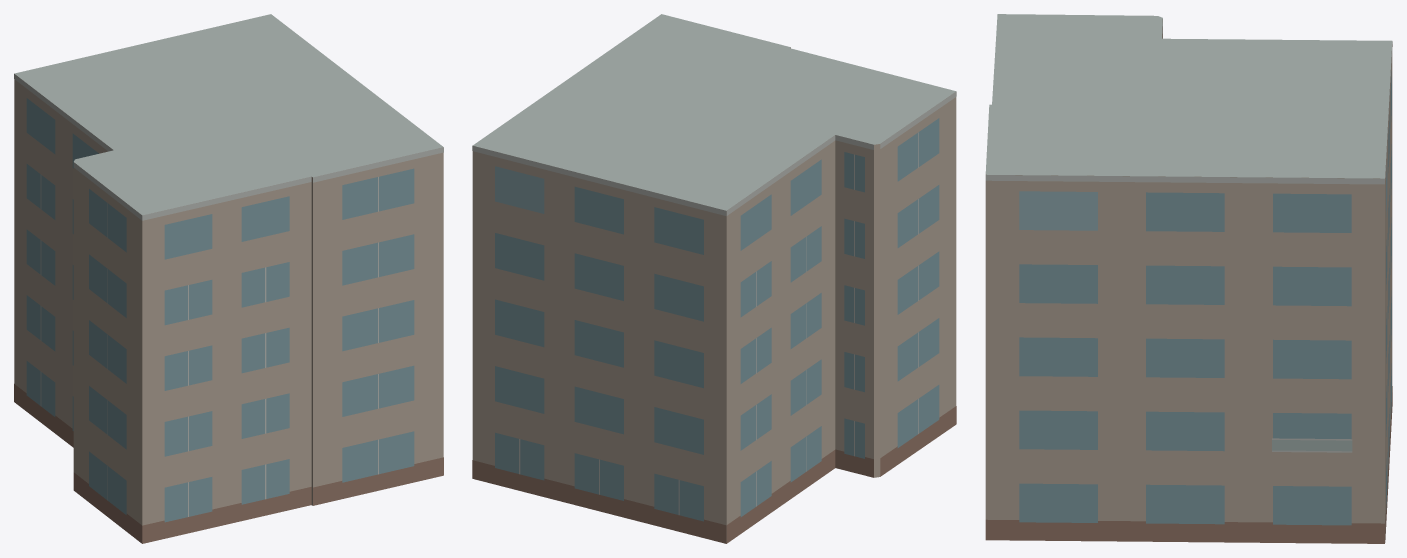
Rendered from survey-upis-32669754.glb.
The picture shows the model from 3 angles, left to right: view 1: azimuth 30°, elevation 25°; view 2: azimuth 150°, elevation 25°; view 3: azimuth 270°, elevation 25°; orthographic projection. The views are drawn at different scales.
Visible parts, largest first — view 1: survey-upis-32669754.tmp; view 2: survey-upis-32669754.tmp; view 3: survey-upis-32669754.tmp.
Boxes of the visible parts, box(x1,y1,x2,y2) form: survey-upis-32669754.tmp: box(14, 14, 443, 543); survey-upis-32669754.tmp: box(472, 14, 956, 543); survey-upis-32669754.tmp: box(985, 14, 1392, 543).
Size of the model in its own units: 14.4 by 14.9 by 15.04.
